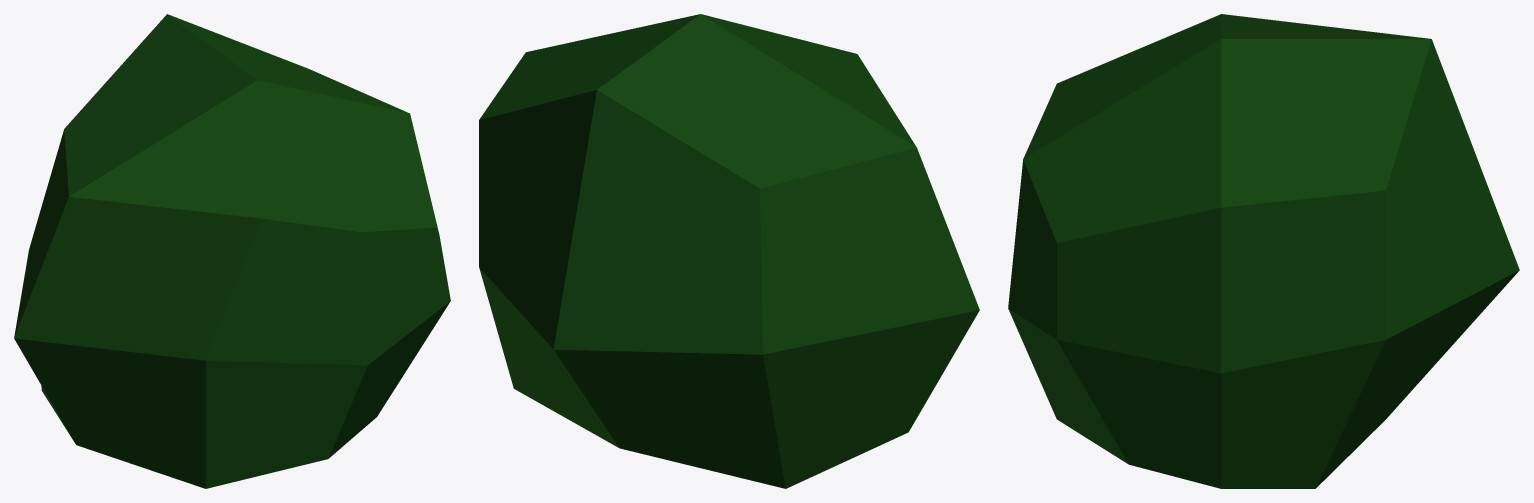
Rendered from krzak.fbx.
The picture shows the model from 3 angles, left to right: view 1: azimuth 30°, elevation 25°; view 2: azimuth 150°, elevation 25°; view 3: azimuth 270°, elevation 25°; orthographic projection. The views are drawn at different scales.
Parts seen in each view (by area): view 1: Cube; view 2: Cube; view 3: Cube.
Part boxes in pixels (<box>): Cube: <box>14,14,450,488</box>; Cube: <box>479,14,979,488</box>; Cube: <box>1008,14,1519,488</box>.
Size of the model in its own units: 347 by 262 by 311.
Materials: 1 (1 with a texture image).
